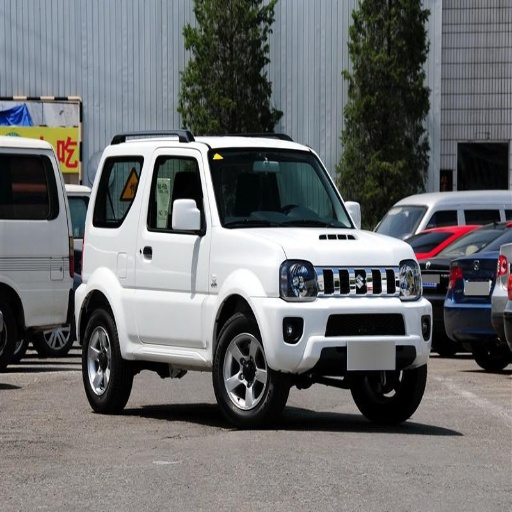back_right_door: (109, 153, 160, 341)
front_bumper: (255, 260, 432, 373)
front_right_door: (138, 152, 207, 347)
front_right_light: (279, 259, 326, 301)
hood: (231, 228, 412, 265)
trunk: (2, 225, 76, 325)
